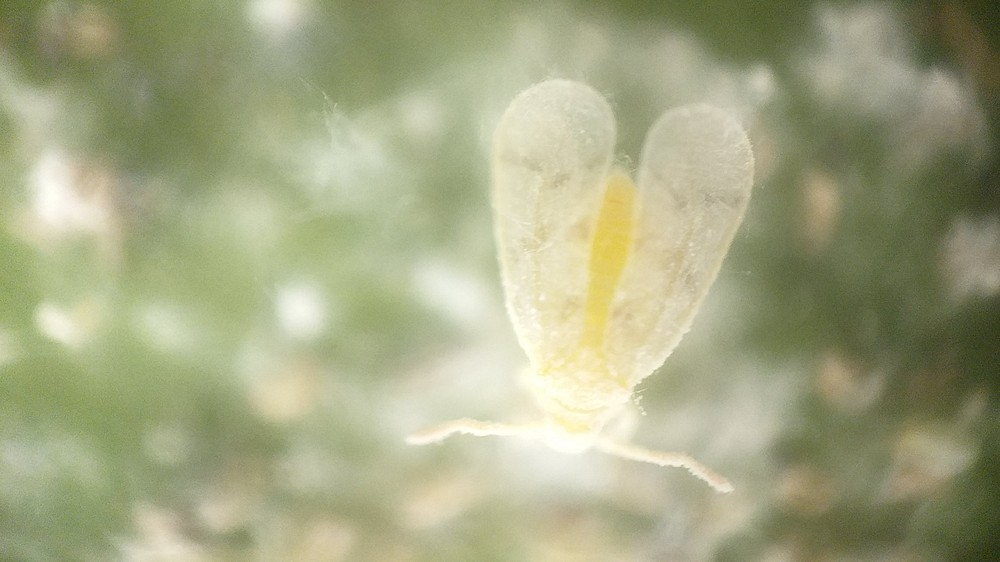Mosca Blanca: (396, 53, 763, 519)
